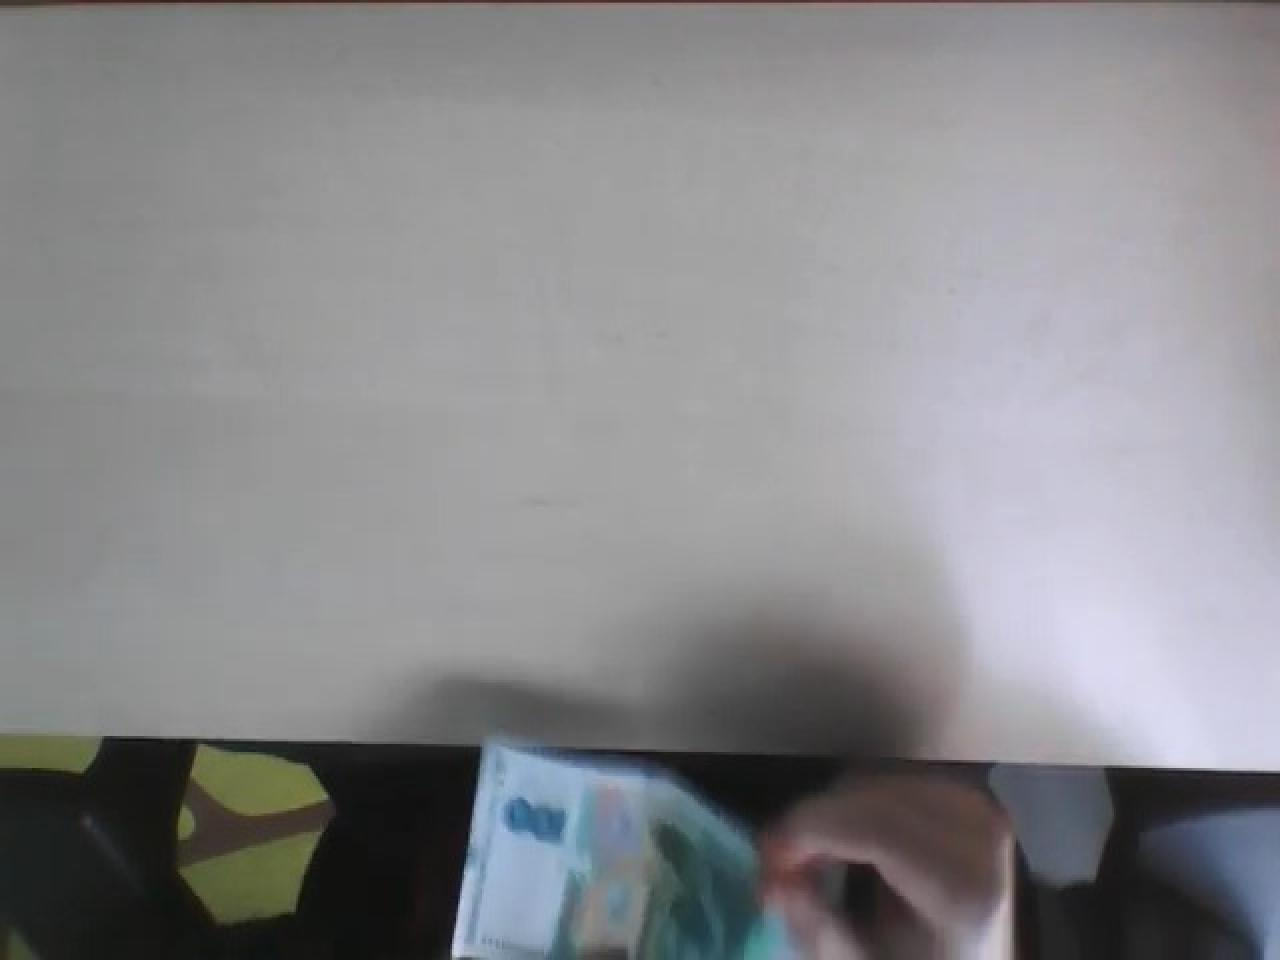100leva: (450, 744, 800, 960)
